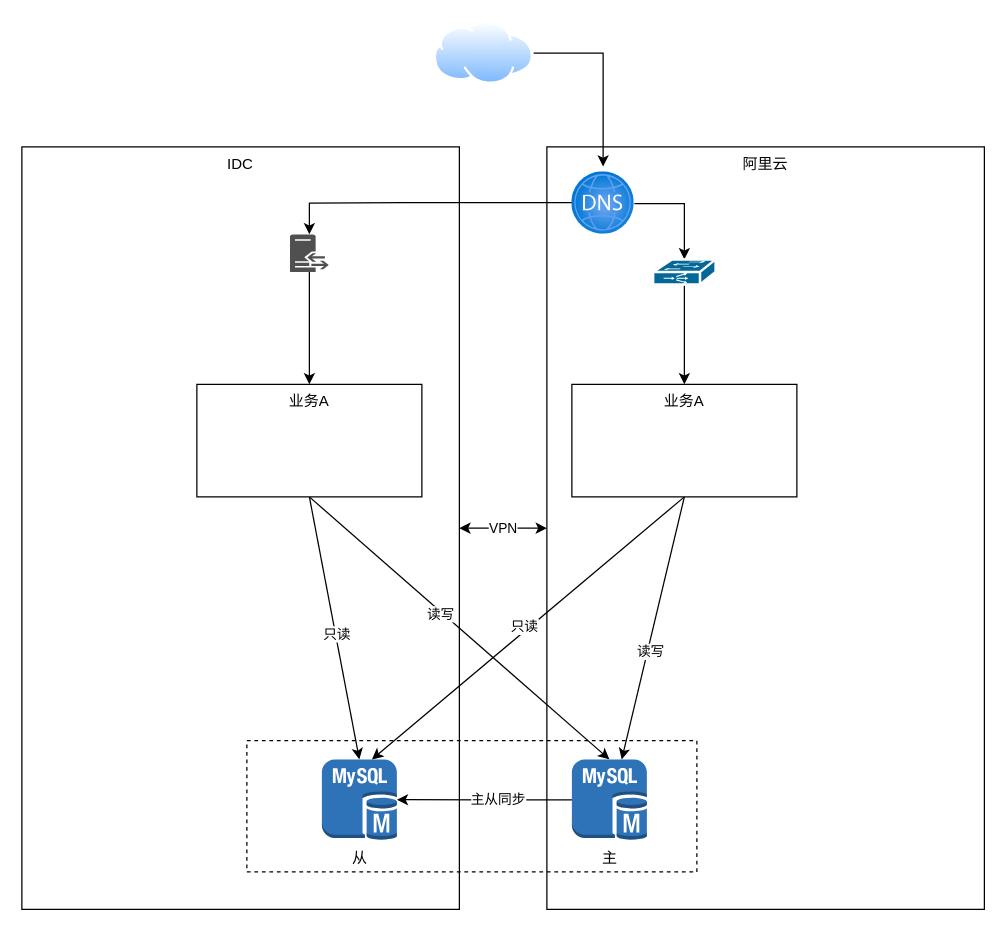
This 1006x931 diagram has some shape labels left out. The shapes that lost their labels are listed below. From the top down, each one's centre as x and y in pixels, then its label:
At [308,252]: "nginx".
At [683,271]: "slb".
